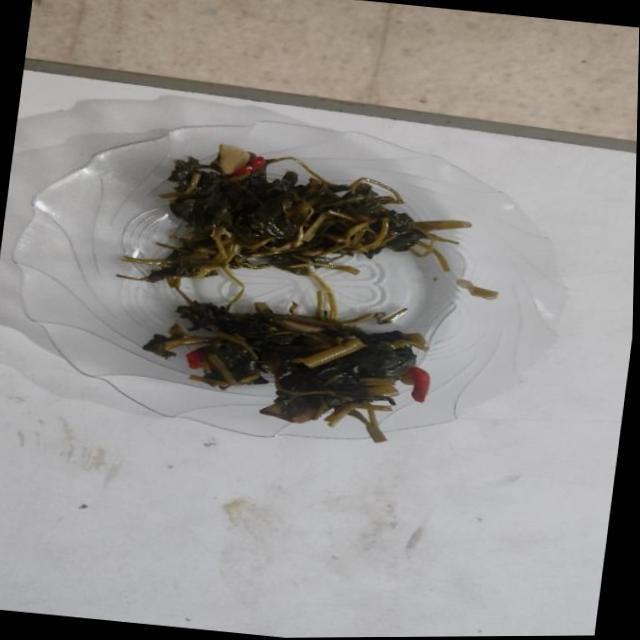tumis_kangkung: (122, 144, 470, 286), (143, 287, 428, 442)
